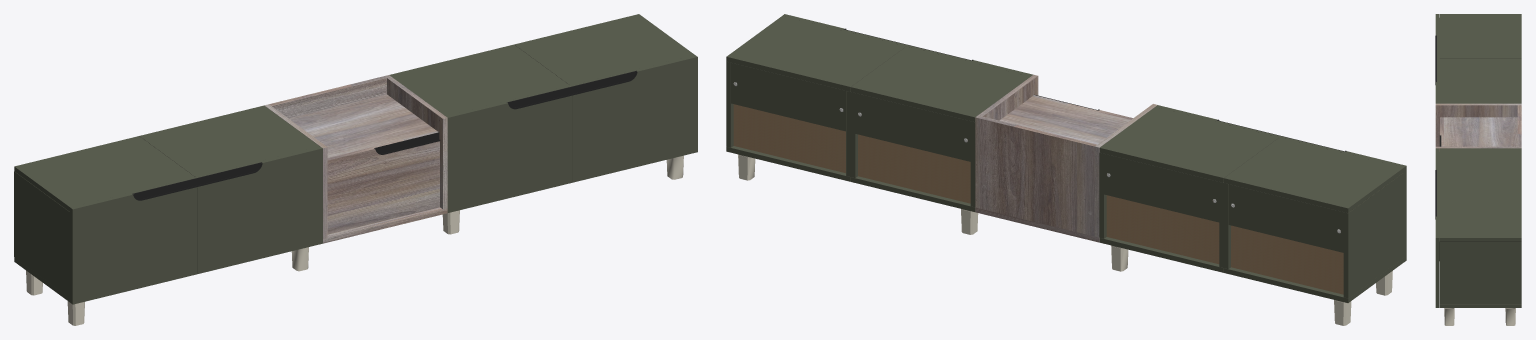
3 renders of one model, left to right at view 1: azimuth 30°, elevation 25°; view 2: azimuth 150°, elevation 25°; view 3: azimuth 270°, elevation 25°, orthographic. The views are drawn at different scales.
Visible parts, largest first — view 1: group_0.148, group_0.143, group_0.147, group_0.153, SketchUp.006, group_0.114, group_0.144, group_0.151, group_0.015, group_0.154, group_0.149; view 2: group_0.148, SketchUp.006, group_0.153, group_0.143, group_0.147, group_0.145, group_0.156, group_0.150, group_0.155, group_0.114; view 3: group_0.147, SketchUp.006, group_0.153, group_0.148, group_0.143, group_0.146.
Boxes of the visible parts, x1=… form: group_0.148: x1=14, y1=136, x2=197, y2=304; group_0.143: x1=139, y1=105, x2=322, y2=273; group_0.147: x1=514, y1=14, x2=697, y2=182; group_0.153: x1=389, y1=44, x2=572, y2=212; SketchUp.006: x1=264, y1=75, x2=447, y2=243; group_0.114: x1=26, y1=270, x2=84, y2=325; group_0.144: x1=197, y1=162, x2=262, y2=186; group_0.151: x1=572, y1=70, x2=637, y2=95; group_0.015: x1=374, y1=132, x2=440, y2=154; group_0.154: x1=507, y1=86, x2=573, y2=109; group_0.149: x1=132, y1=178, x2=198, y2=200; group_0.148: x1=1224, y1=136, x2=1406, y2=302; SketchUp.006: x1=975, y1=74, x2=1157, y2=242; group_0.153: x1=850, y1=45, x2=1032, y2=211; group_0.143: x1=1099, y1=105, x2=1280, y2=272; group_0.147: x1=726, y1=14, x2=907, y2=181; group_0.145: x1=1106, y1=174, x2=1219, y2=264; group_0.156: x1=858, y1=134, x2=970, y2=203; group_0.150: x1=1231, y1=225, x2=1343, y2=294; group_0.155: x1=733, y1=104, x2=845, y2=173; group_0.114: x1=1334, y1=271, x2=1392, y2=325; group_0.147: x1=1435, y1=193, x2=1521, y2=307; SketchUp.006: x1=1435, y1=103, x2=1521, y2=151; group_0.153: x1=1435, y1=148, x2=1521, y2=196; group_0.148: x1=1435, y1=14, x2=1521, y2=61; group_0.143: x1=1435, y1=58, x2=1521, y2=103; group_0.146: x1=1444, y1=308, x2=1515, y2=325.
Size of the model in its own units: 2.4 by 0.4529 by 0.391.
Materials: 7 (2 with a texture image).
